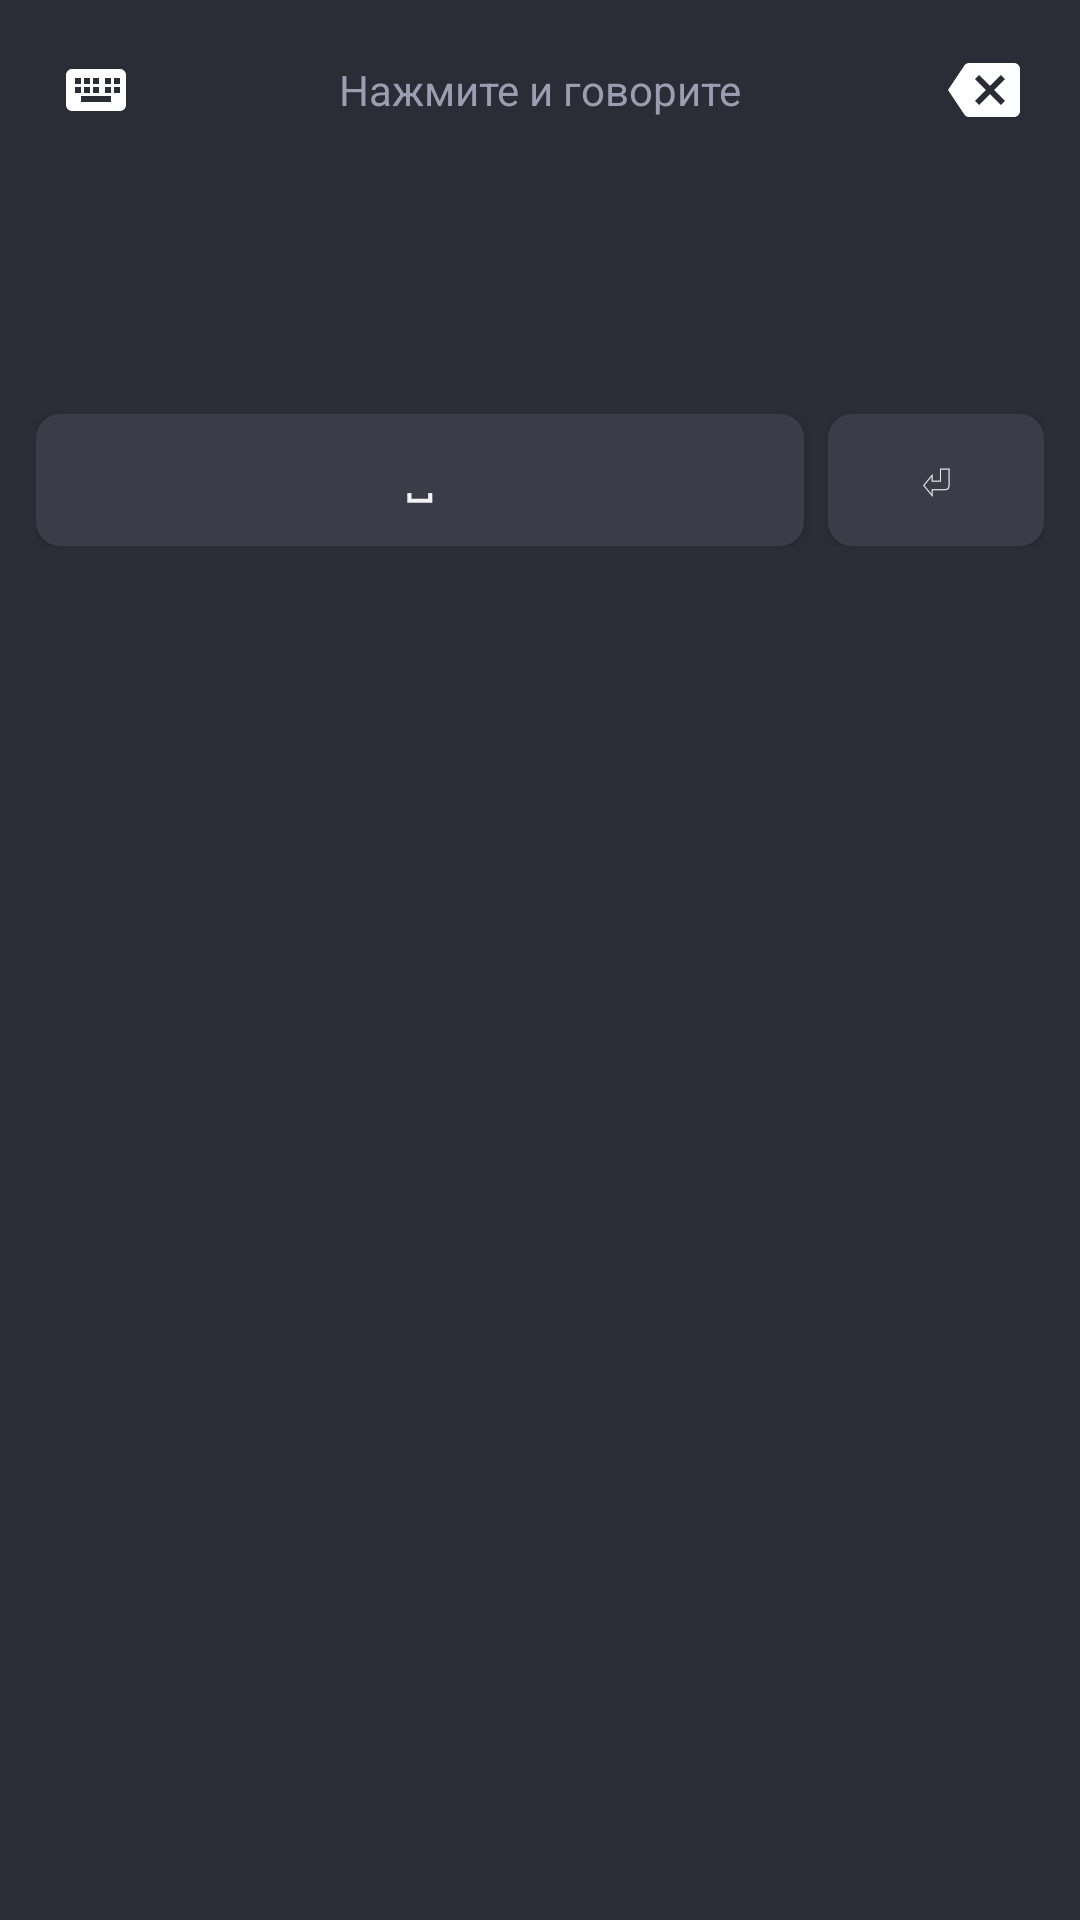

Named icons in this screenshot (1080×1920) and their centers, (x=x, y=y):
backspace: (x=984, y=90)
Выбрать клавиатуру для ввода: (x=96, y=90)
